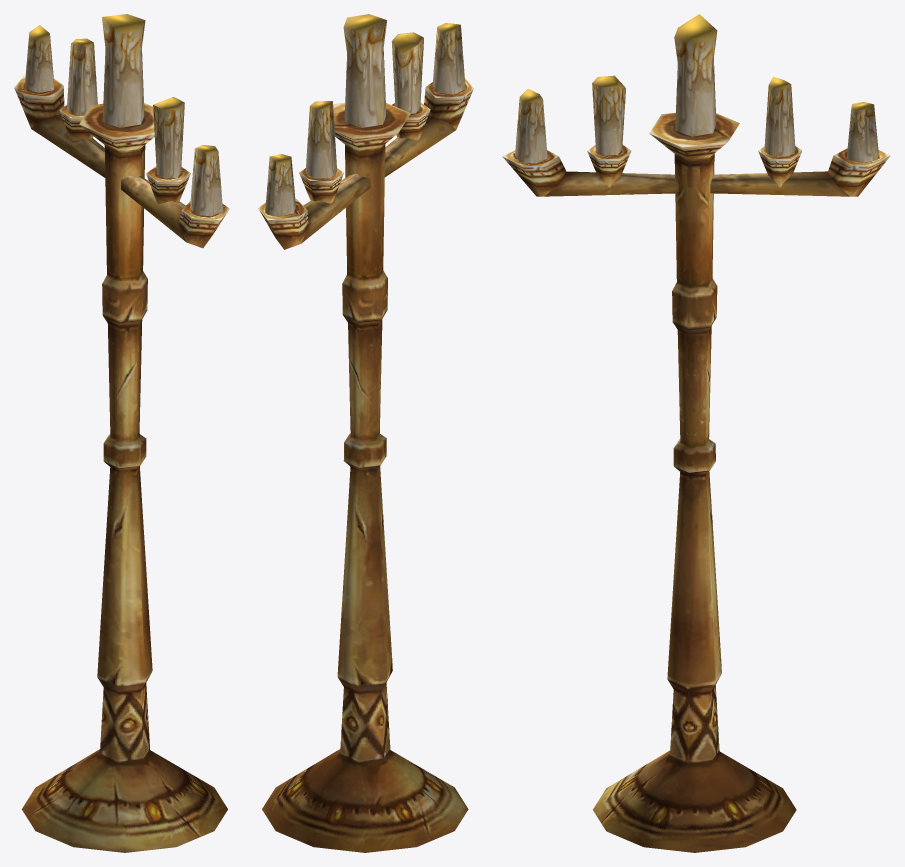
Rendered from candelabratallwall01.obj.
The picture shows the model from 3 angles, left to right: view 1: azimuth 30°, elevation 25°; view 2: azimuth 150°, elevation 25°; view 3: azimuth 270°, elevation 25°; orthographic projection.
Visible parts, largest first — view 1: candelabratallwall01.m2; view 2: candelabratallwall01.m2; view 3: candelabratallwall01.m2.
Part boxes in pixels (x1,y1,x2,y2): candelabratallwall01.m2: (14, 14, 229, 852); candelabratallwall01.m2: (258, 14, 473, 852); candelabratallwall01.m2: (502, 14, 890, 852).
Bounding box in the file's own units: 0.8739 × 3.71 × 1.66.
Materials: 1 (1 with a texture image).
